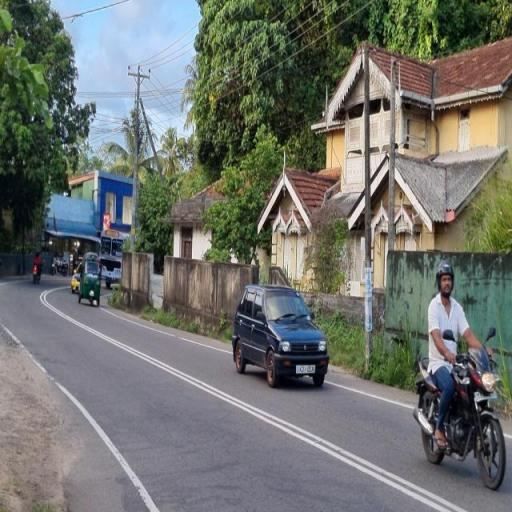double_white_line: (169, 348, 464, 510)
